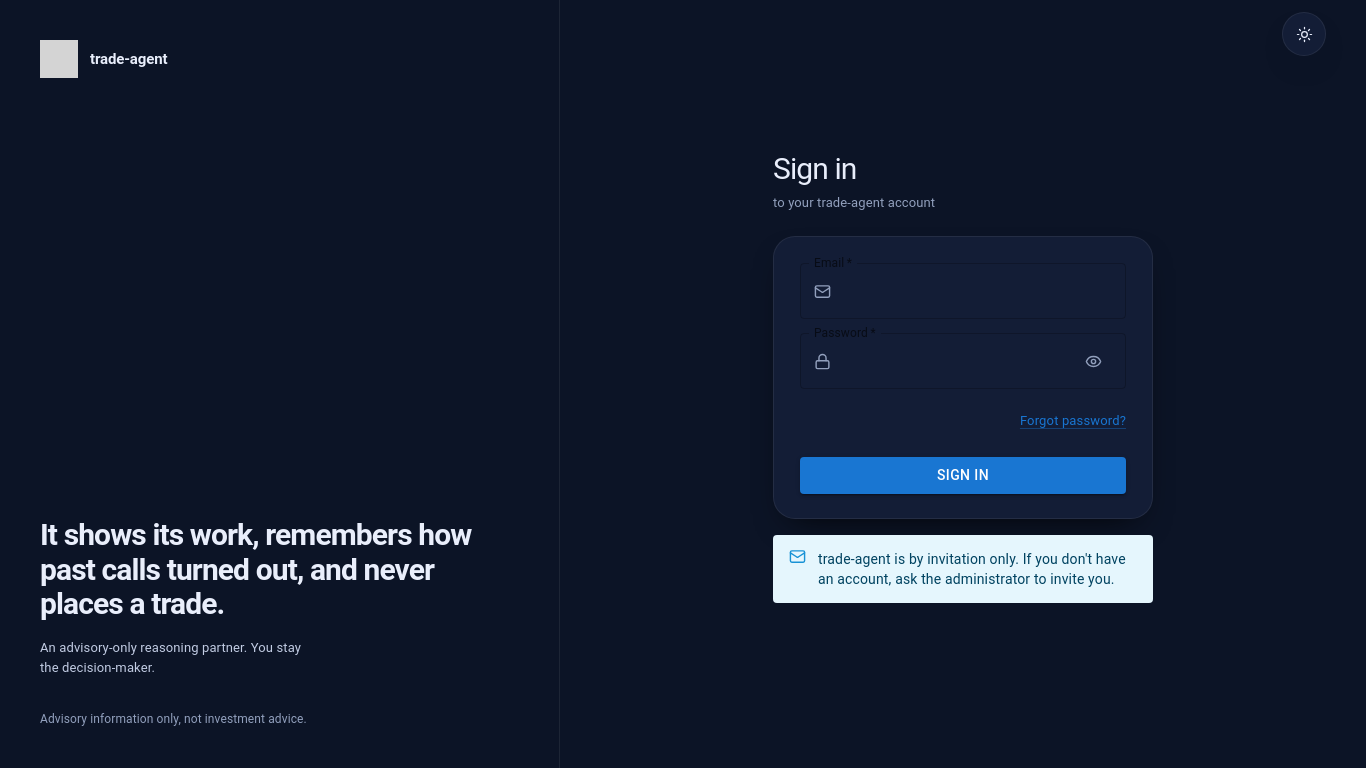
Test: LoginPage › shows an inline error on a wrong password, and does not redirect
Type "a@example.com" into the field labelled "Email *" at (982, 291), box [839,263,1126,319]
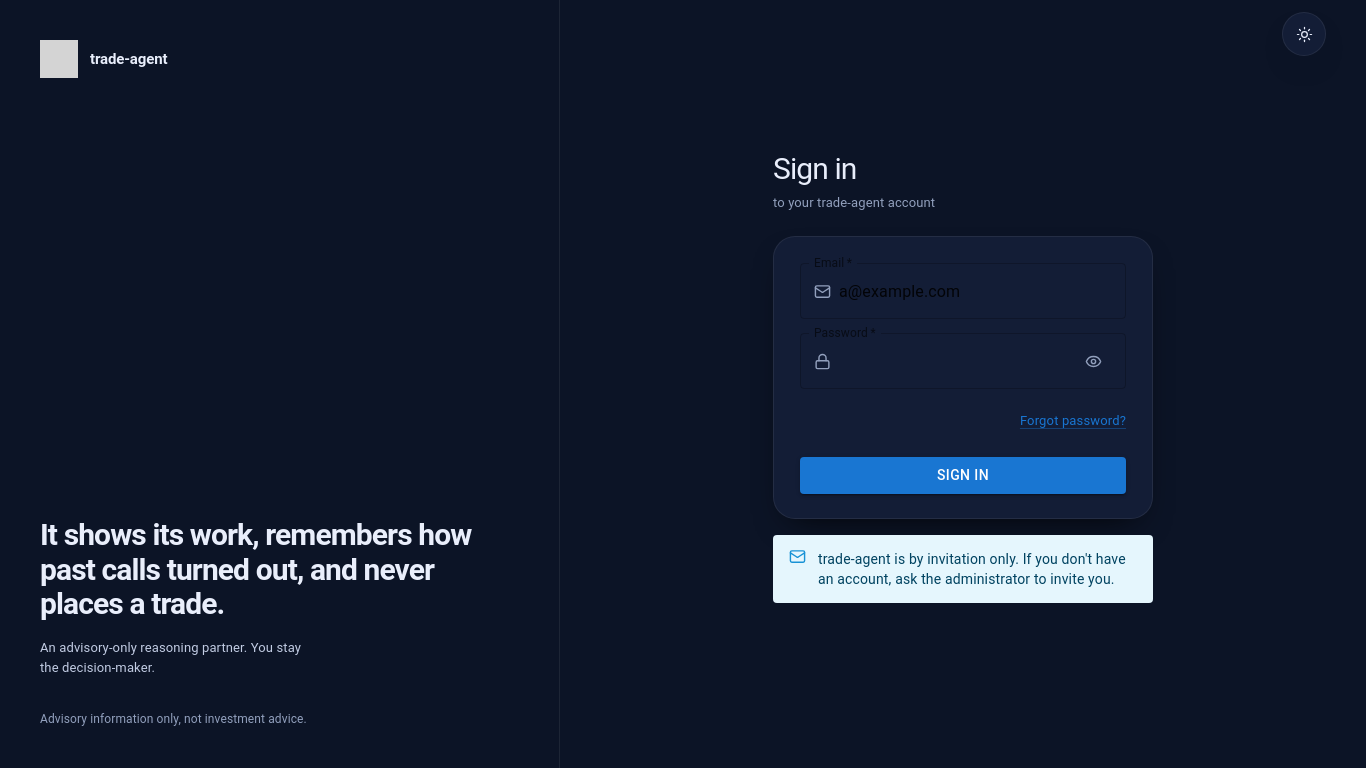
Type "wrong" into the password field labelled "Password *" at (951, 361), box [839,333,1063,389]
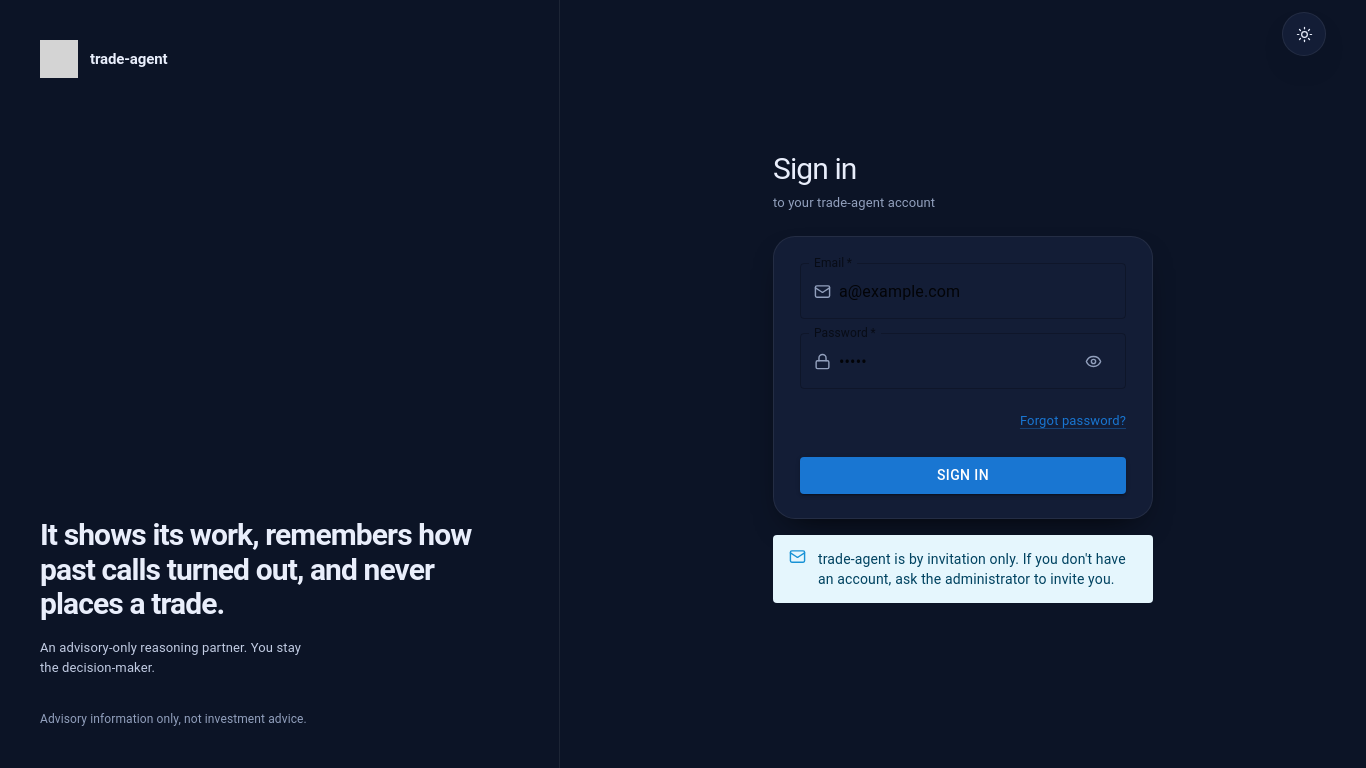
Click the button "Sign in" at (963, 475), box [800,457,1126,494]
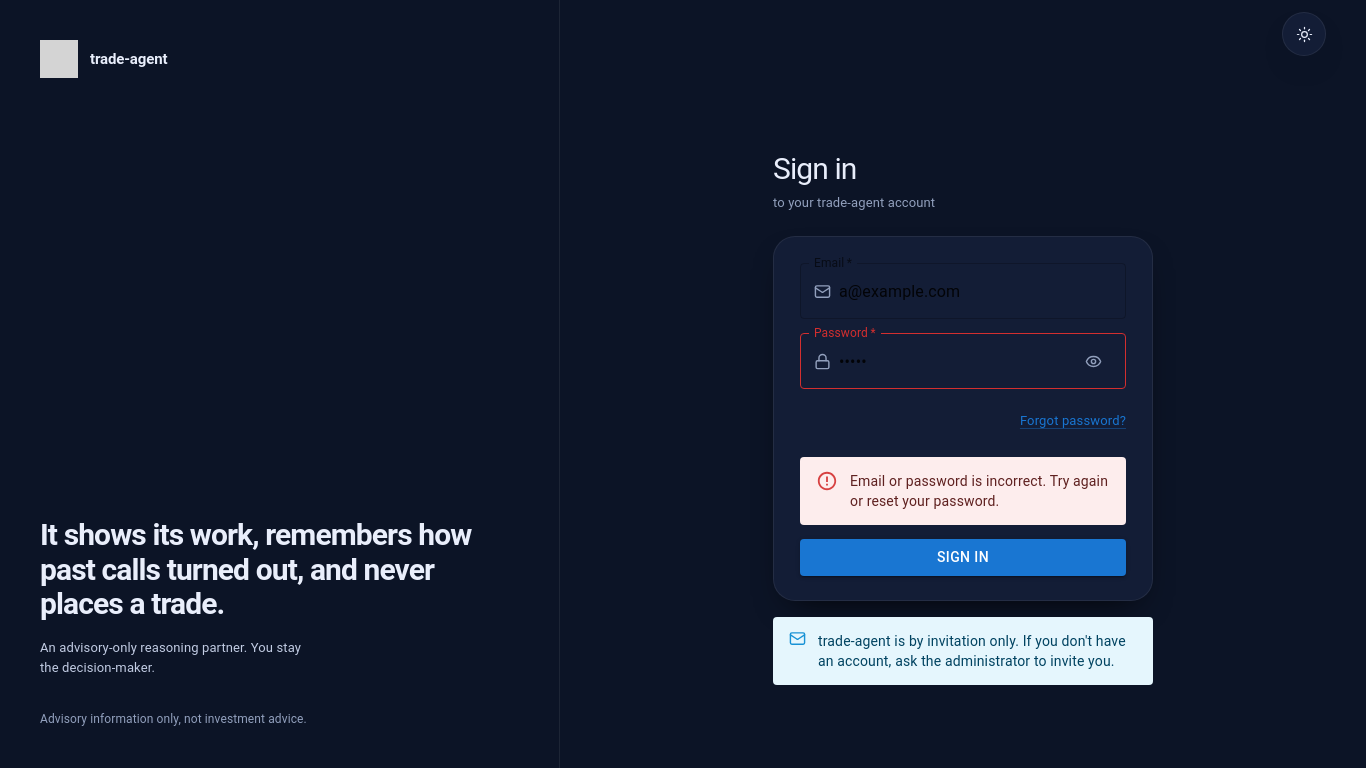
Expected: the text "Email or password is incorrect" is shown, [850,473,1108,509]
